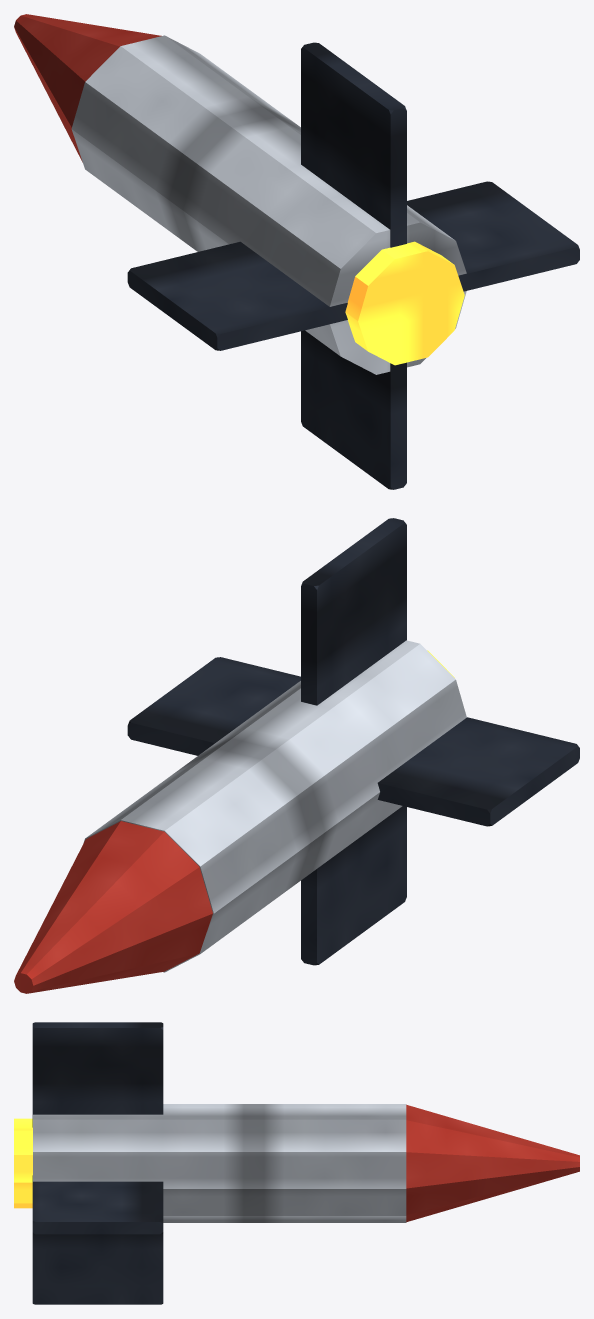
Rendered from proj_rocket.glb.
3 views of the same model, one above another, from view 1: azimuth 30°, elevation 25°; view 2: azimuth 150°, elevation 25°; view 3: azimuth 270°, elevation 25° (orthographic). The views are drawn at different scales.
Visible parts, largest first — view 1: proj_rocket; view 2: proj_rocket; view 3: proj_rocket.
Boxes of the visible parts, x1,y1,x2,y2 form: proj_rocket: [14, 14, 579, 489]; proj_rocket: [14, 518, 579, 993]; proj_rocket: [14, 1022, 579, 1304].
Bounding box in the file's own units: 0.56 × 0.56 × 1.04.
1 material, 1 textured.
